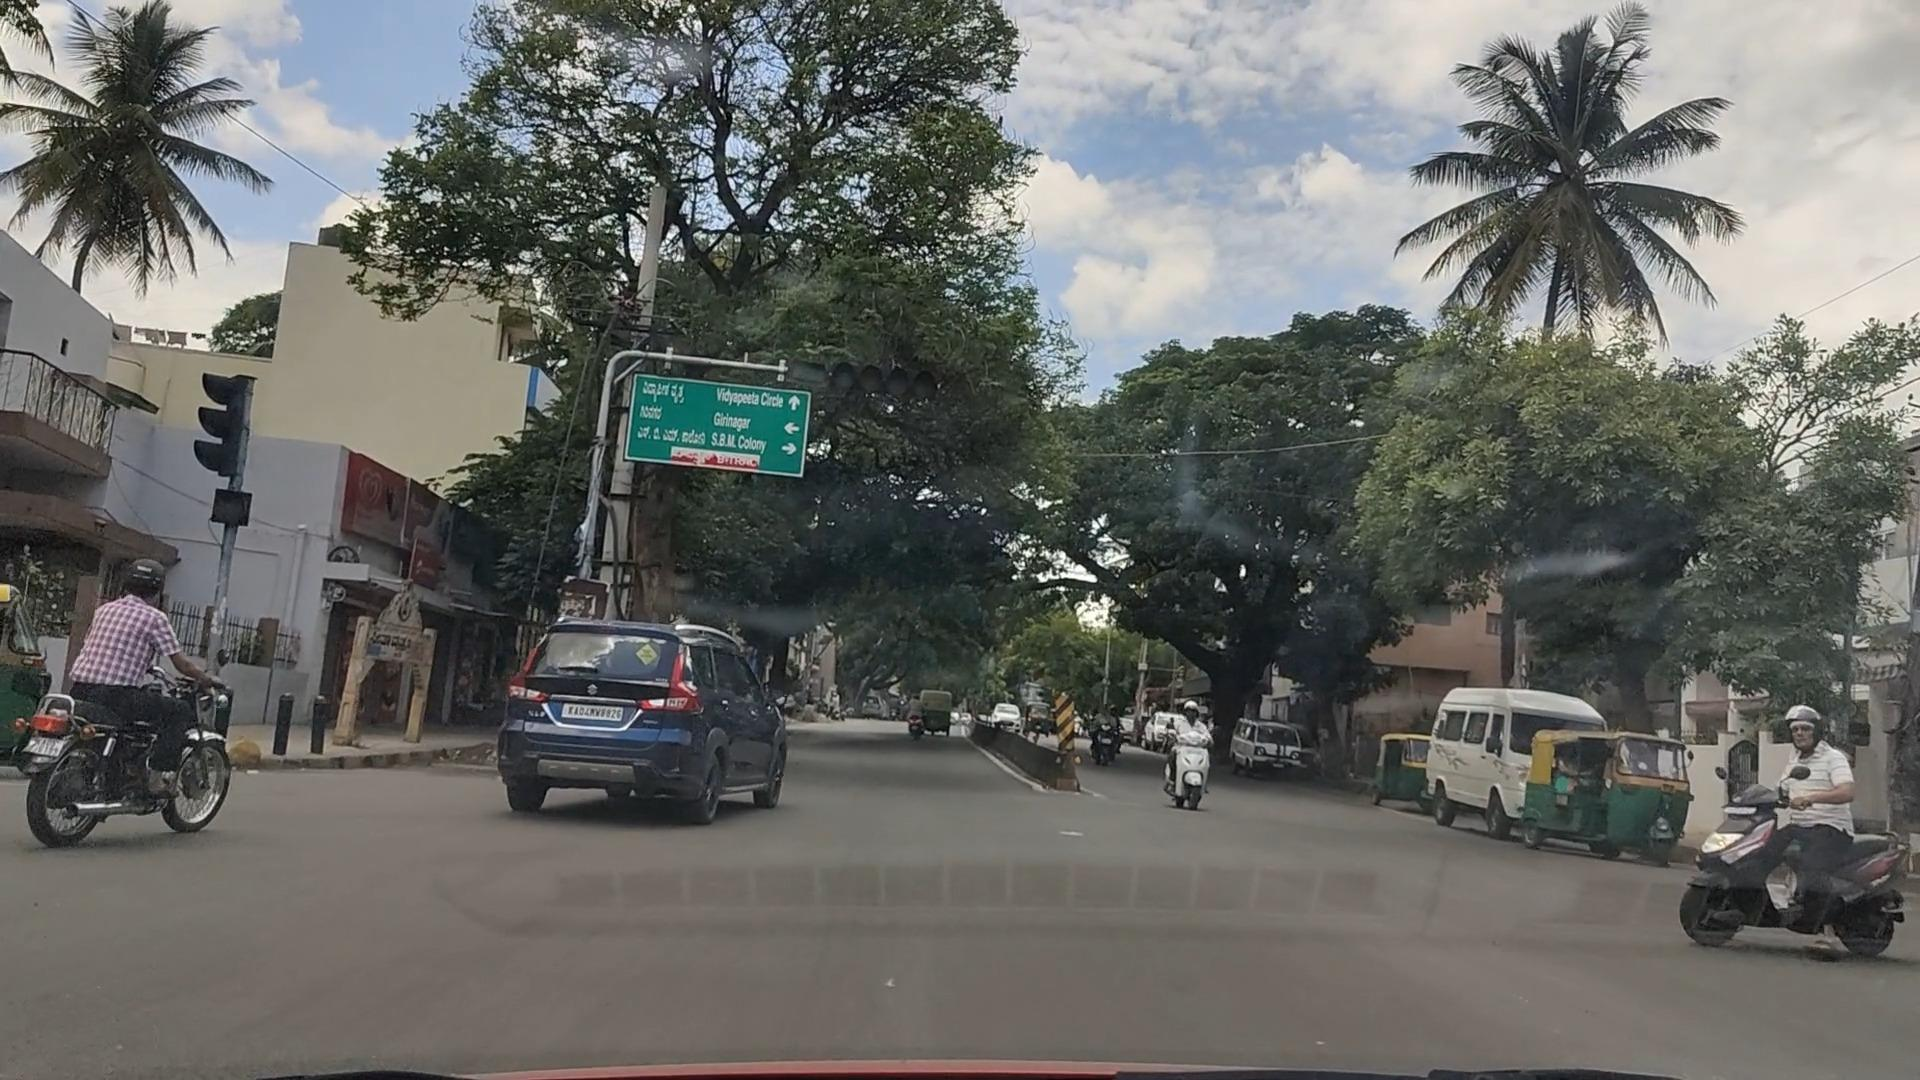LMV: (483, 618, 790, 844), (46, 546, 229, 835)
